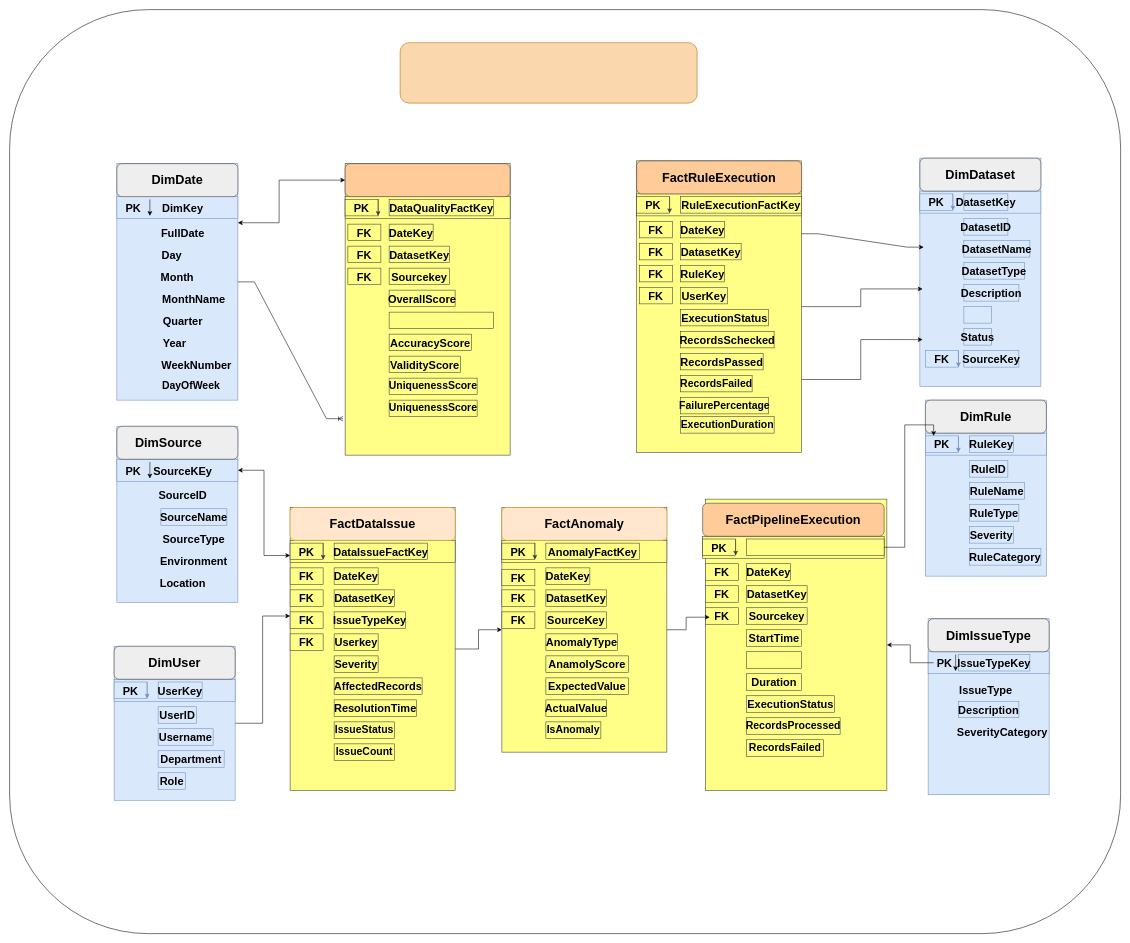
The diagram is 1130 pixels wide and 943 high, and some of its shapes have lost their labels. The centre of each missing label's shape, as x and y in pixels:
"CompletenessScore" goes at [441,320].
"DATA WAREHOUSE ERD" goes at [548,72].
"EndTime" goes at [774,659].
"FactDataQuality" goes at [427,180].
"Owner" goes at [977,314].
"PipelineExecutionFactKey" goes at [815,547].
